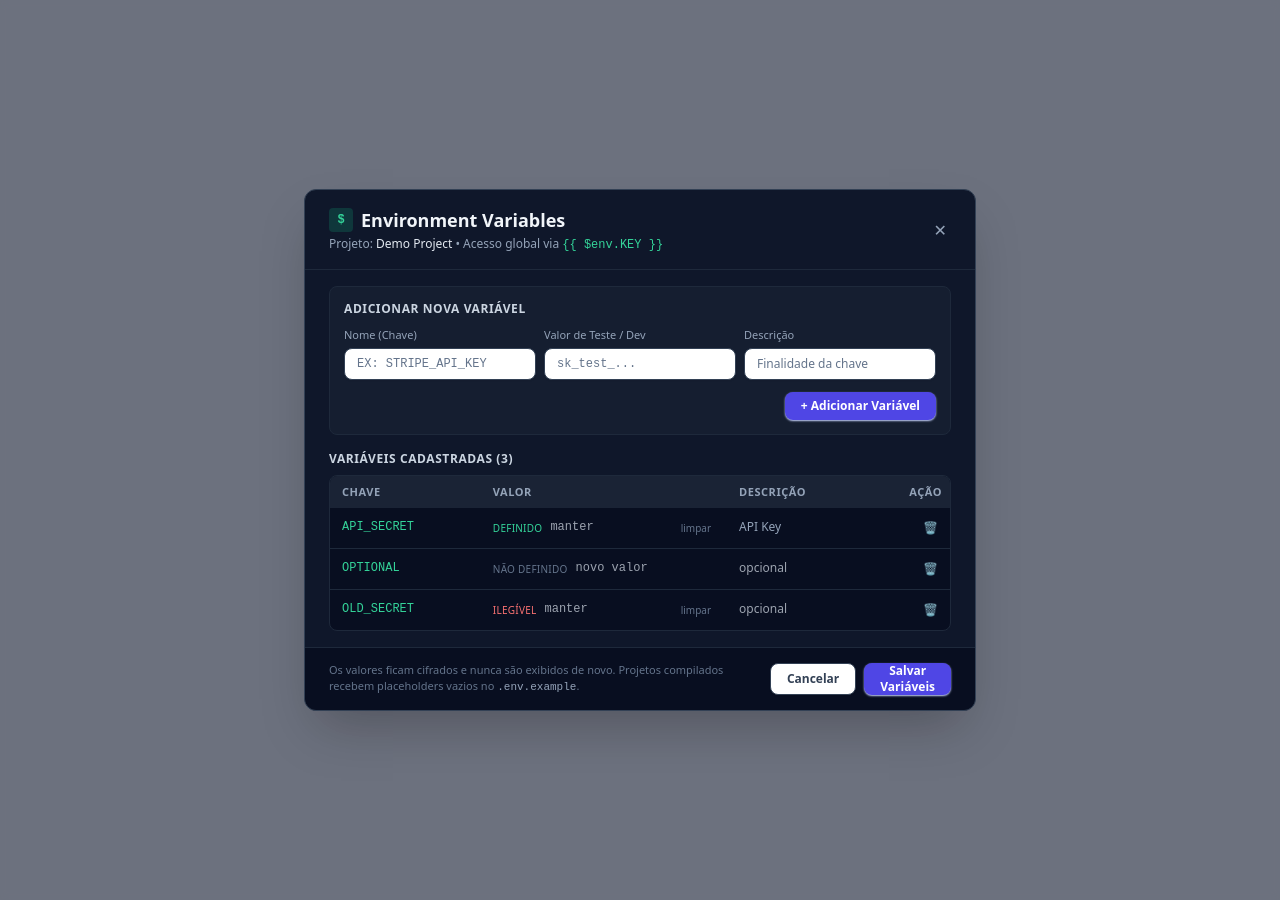
EnvVarsModal › rejects invalid variable identifier format
The image size is (1280, 900).
Type "123-INVALID-KEY" into the field with placeholder "EX: STRIPE_API_KEY" at point(440, 364), box [344,348,536,380]
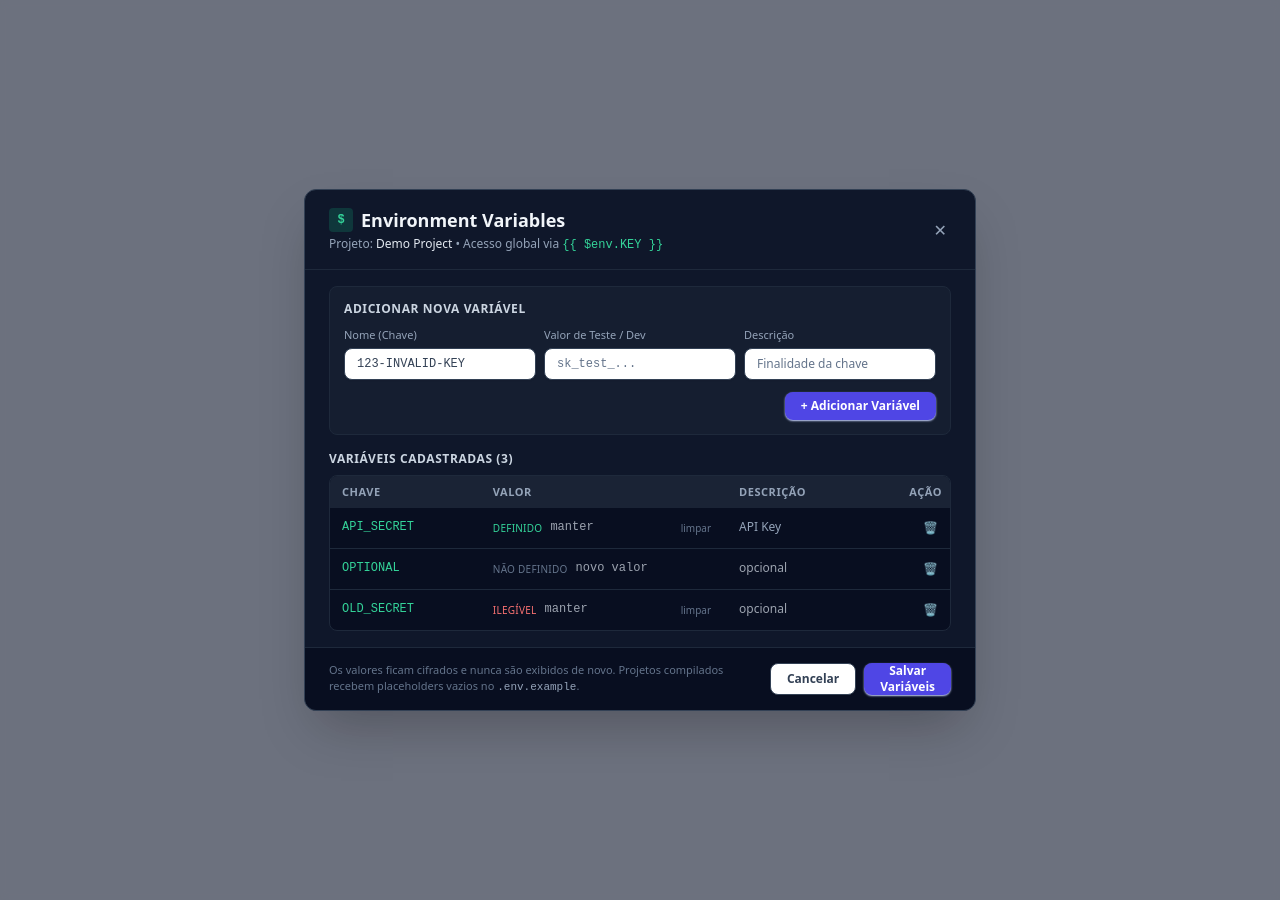
Click the button "+ Adicionar Variável" at point(860, 406), box [785,392,936,420]
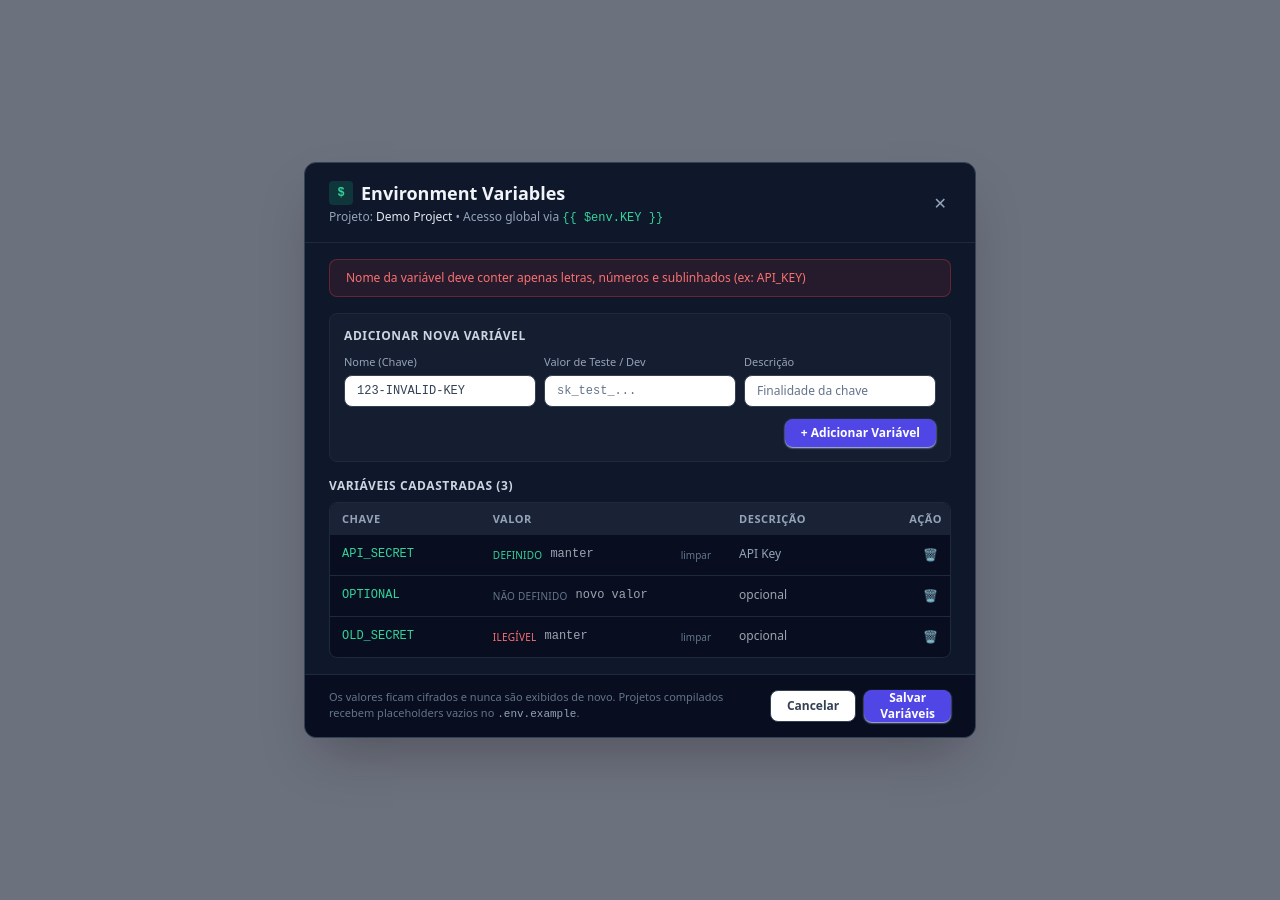
expect the text "Nome da variável deve conter apenas letras" is shown: met, box [346,269,806,286]
